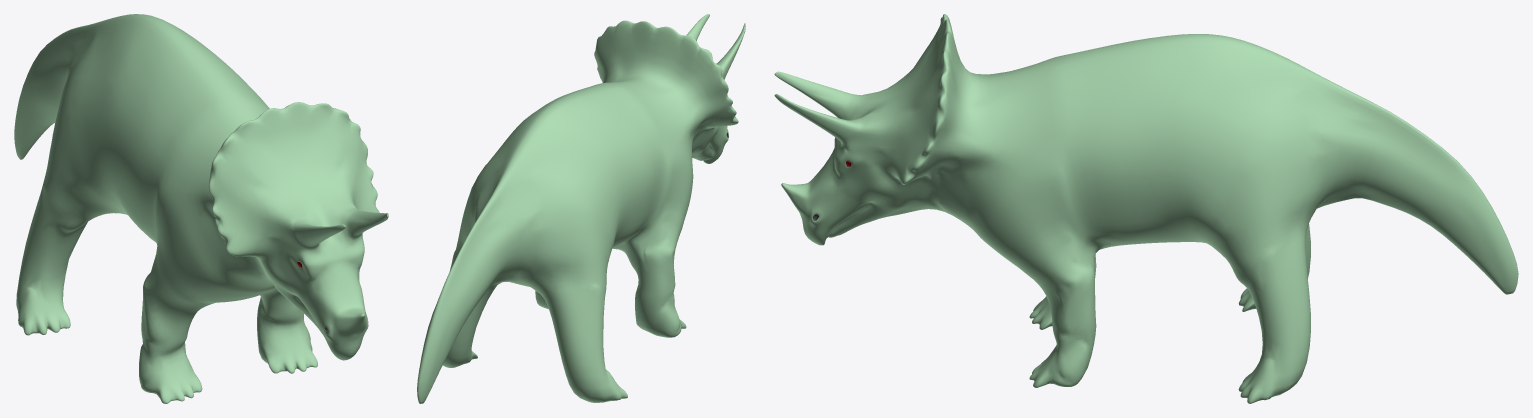
Rendered from triceratops.obj.
3 views of the same model, side by side, from view 1: azimuth 30°, elevation 25°; view 2: azimuth 150°, elevation 25°; view 3: azimuth 270°, elevation 25° (orthographic). The views are drawn at different scales.
Parts seen in each view (by area): view 1: Triceratops; view 2: Triceratops; view 3: Triceratops.
Boxes of the visible parts, box(x1,y1,x2,y2) form: Triceratops: box(14, 14, 388, 403); Triceratops: box(417, 14, 745, 403); Triceratops: box(774, 14, 1518, 403).
Bounding box in the file's own units: 5.83 × 7.74 × 16.23.
